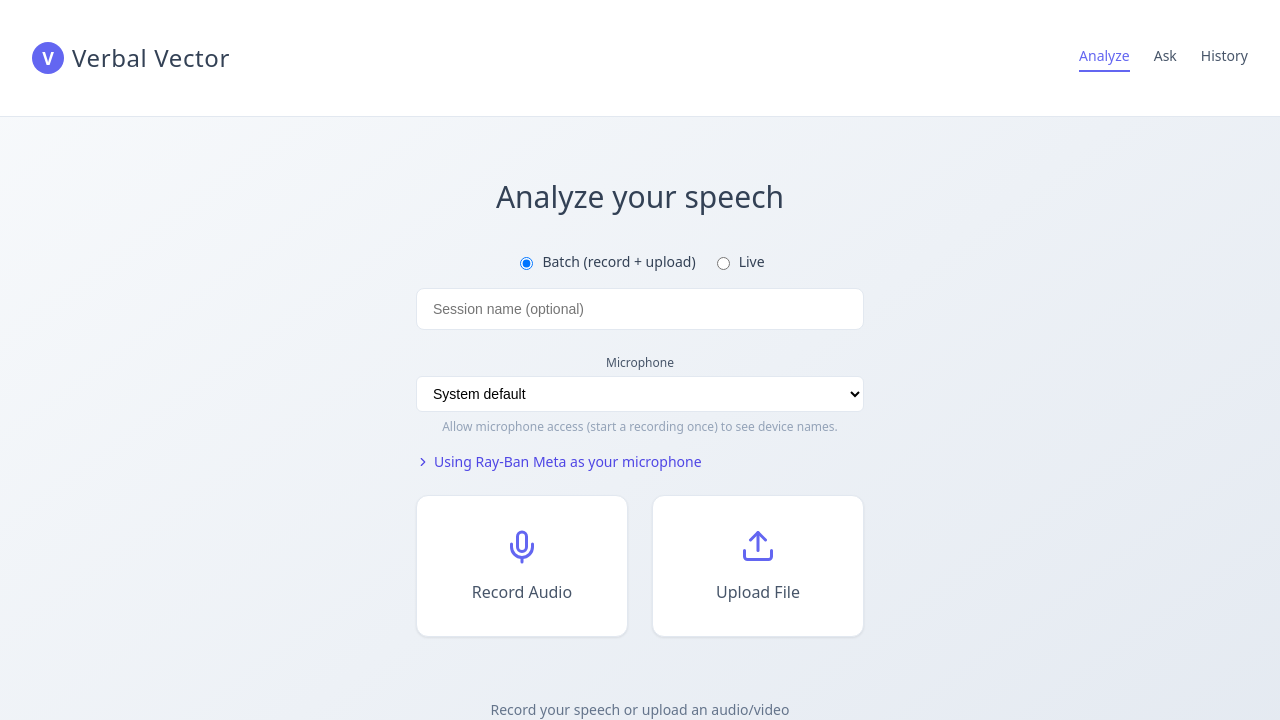
Test: VerbalVector live mode › shows the analyzing spinner (does not bounce to input) when a live session stops
The width and height of the screenshot is (1280, 720).
Click the radio button labelled "Live": (723, 263) [717,256,730,270]
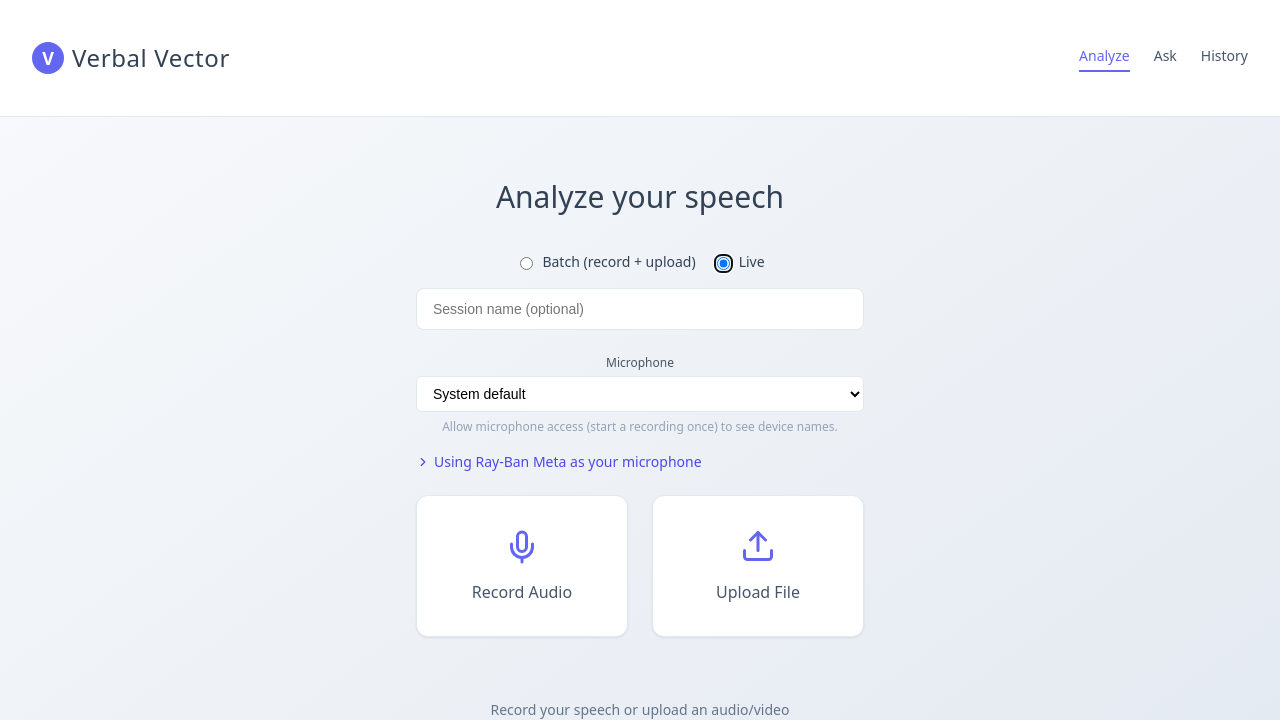
Click the button "Record Audio": (522, 566) [416,495,628,637]
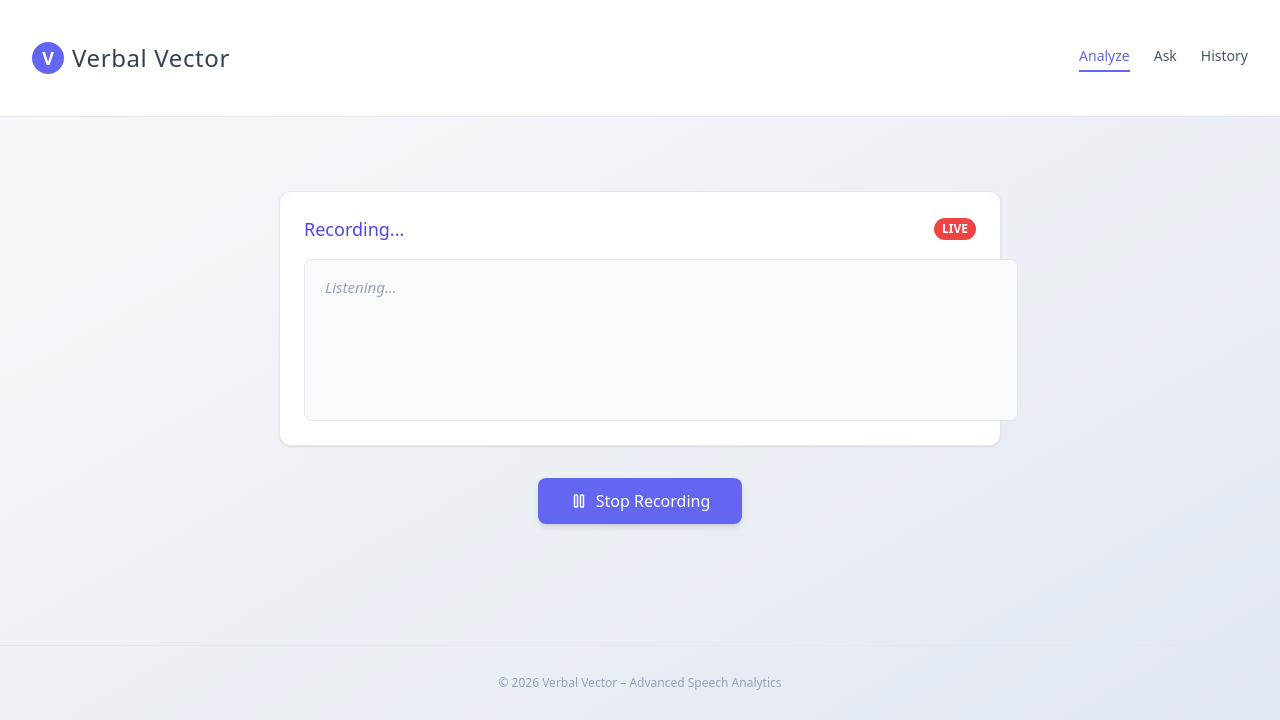
Click the button "Stop Recording": (640, 501) [538,478,742,524]
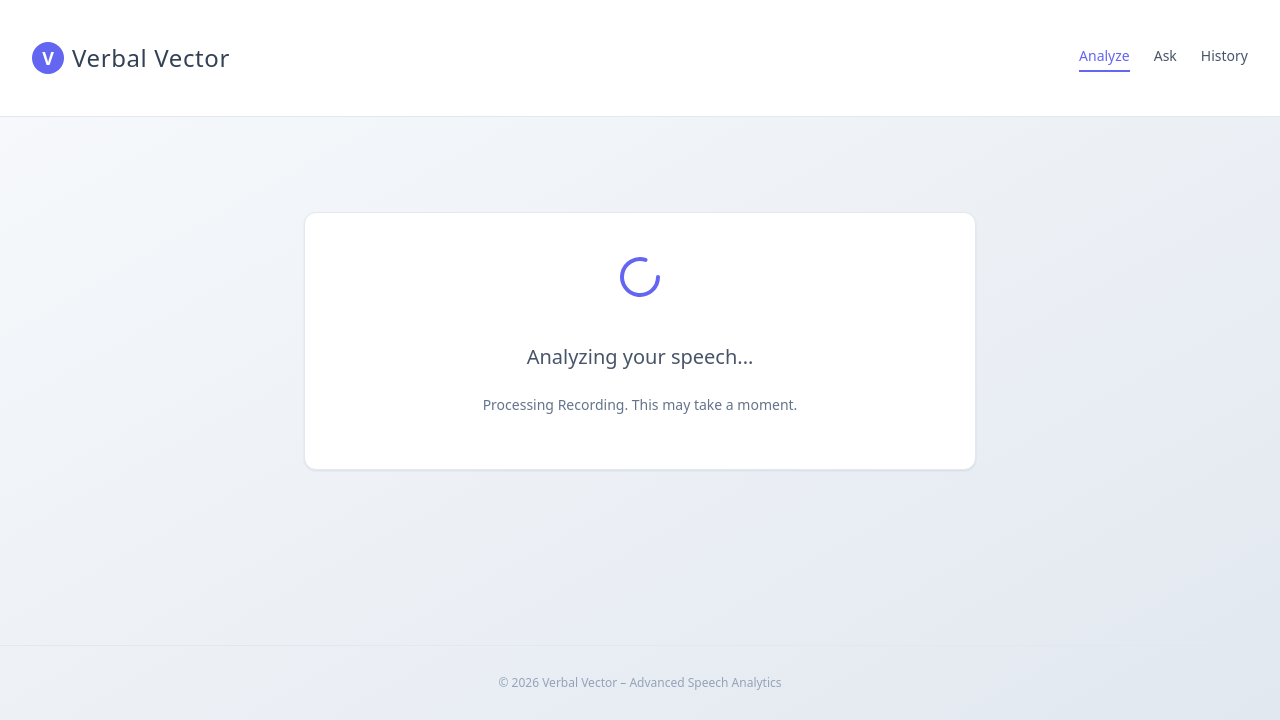
Expected: the heading "Analyzing your speech..." is shown, [527,342,753,372]
